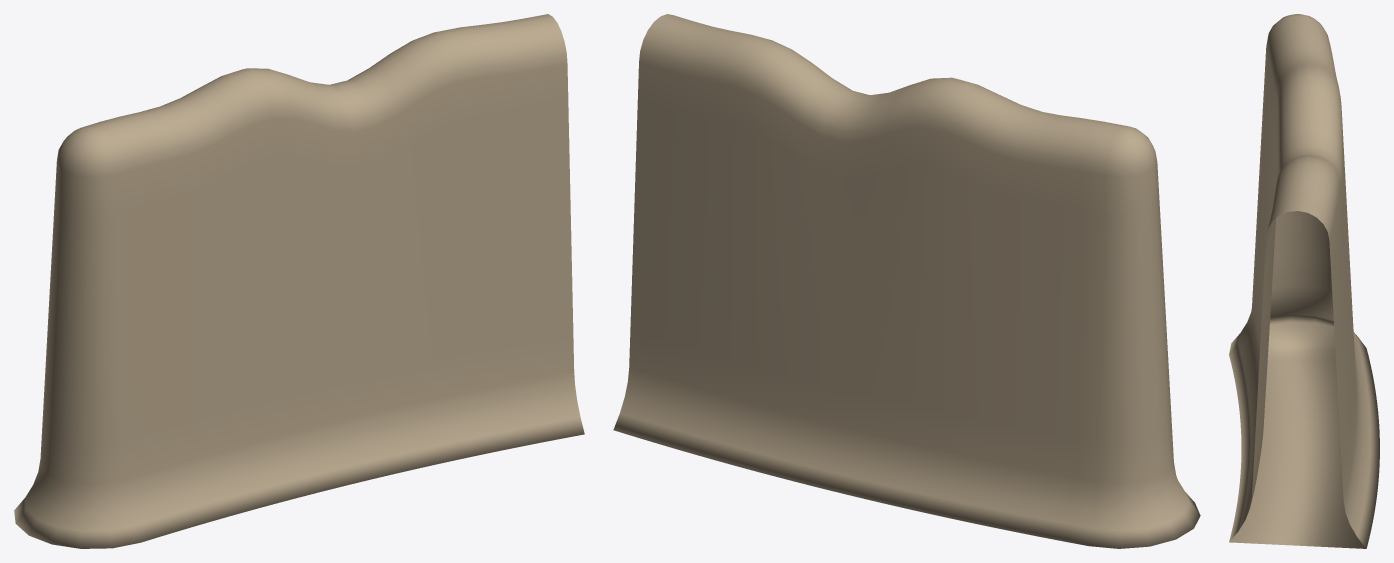
Rendered from KFB_Wall_curved_ring_r5_capB.r3.glb.
3 renders of one model, left to right at view 1: azimuth 30°, elevation 25°; view 2: azimuth 150°, elevation 25°; view 3: azimuth 270°, elevation 25°, orthographic. The views are drawn at different scales.
Visible parts, largest first — view 1: KFB_Wall_curved_ring_r5_capB; view 2: KFB_Wall_curved_ring_r5_capB; view 3: KFB_Wall_curved_ring_r5_capB.
Part boxes in pixels (x1,y1,x2,y2): KFB_Wall_curved_ring_r5_capB: [14, 14, 584, 548]; KFB_Wall_curved_ring_r5_capB: [613, 14, 1200, 548]; KFB_Wall_curved_ring_r5_capB: [1229, 14, 1379, 548].
Bounding box in the file's own units: 5.22 × 3.72 × 1.47.
